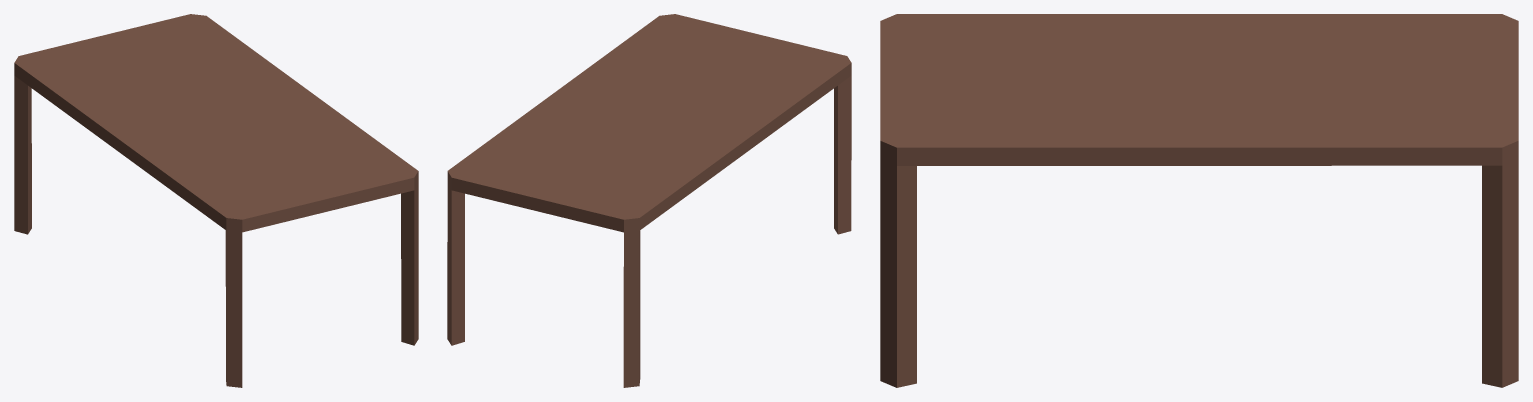
The model's file is Table3.gltf.
3 renders of one model, left to right at view 1: azimuth 30°, elevation 25°; view 2: azimuth 150°, elevation 25°; view 3: azimuth 270°, elevation 25°, orthographic. The views are drawn at different scales.
Visible parts, largest first — view 1: node-0; view 2: node-0; view 3: node-0.
Part boxes in pixels (<box>): node-0: <box>14,14,418,387</box>; node-0: <box>447,14,851,387</box>; node-0: <box>880,14,1518,387</box>.
Size of the model in its own units: 1.32 by 1.11 by 2.66.
